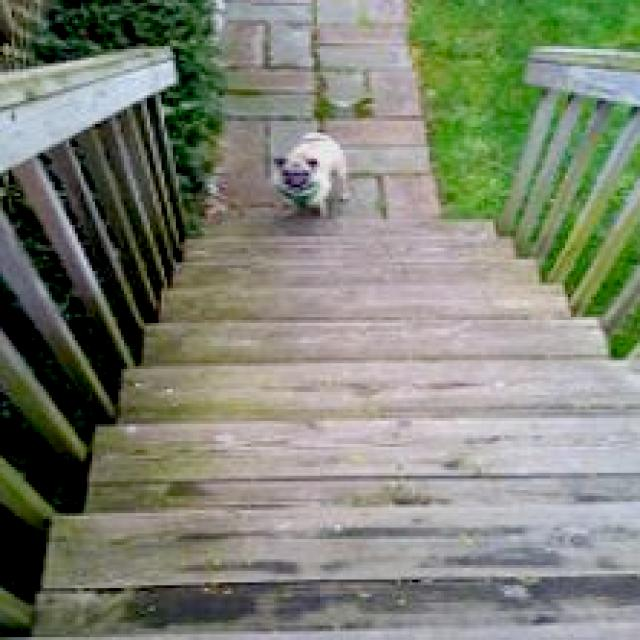upstair: (186, 235, 604, 462)
